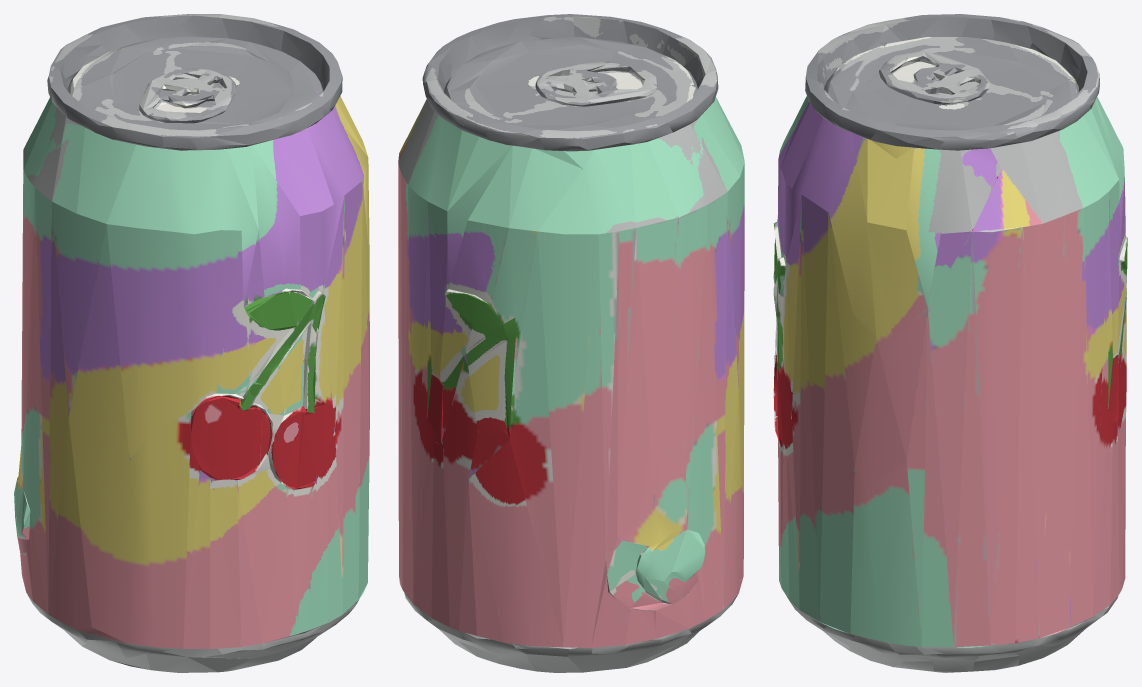
File: lata.gltf
3 renders of one model, left to right at view 1: azimuth 30°, elevation 25°; view 2: azimuth 150°, elevation 25°; view 3: azimuth 270°, elevation 25°, orthographic.
Visible parts, largest first — view 1: lata; view 2: lata; view 3: lata.
Part boxes in pixels (x1=…): lata: x1=14, y1=14, x2=369, y2=672; lata: x1=398, y1=14, x2=744, y2=672; lata: x1=773, y1=14, x2=1127, y2=672.
Size of the model in its own units: 1.11 by 1.9 by 1.12.
Materials: 1 (1 with a texture image).
